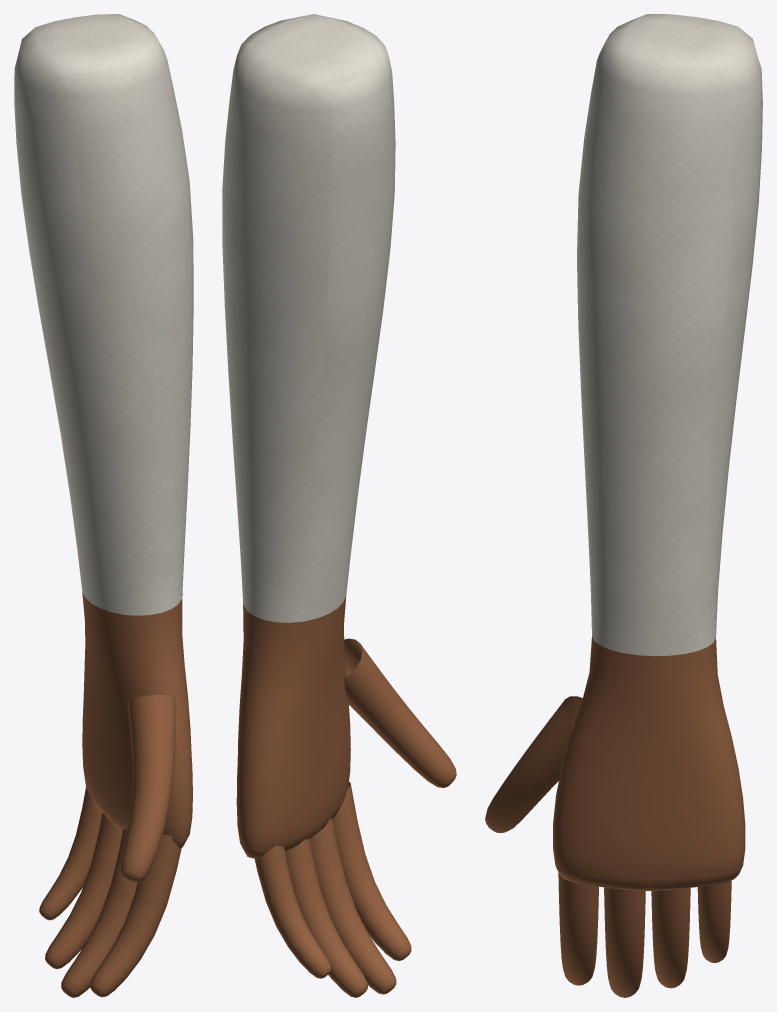
File: antebrazoizq.obj
3 renders of one model, left to right at view 1: azimuth 30°, elevation 25°; view 2: azimuth 150°, elevation 25°; view 3: azimuth 270°, elevation 25°, orthographic. The views are drawn at different scales.
Parts seen in each view (by area): view 1: AntebrazoIzq; view 2: AntebrazoIzq; view 3: AntebrazoIzq.
Boxes of the visible parts, left/top/right/bottom form: AntebrazoIzq: left=14, top=14, right=193, bottom=997; AntebrazoIzq: left=222, top=14, right=456, bottom=997; AntebrazoIzq: left=485, top=14, right=762, bottom=997.
Bounding box in the file's own units: 0.0499 × 0.2962 × 0.0757.
Materials: 2 (2 with a texture image).
